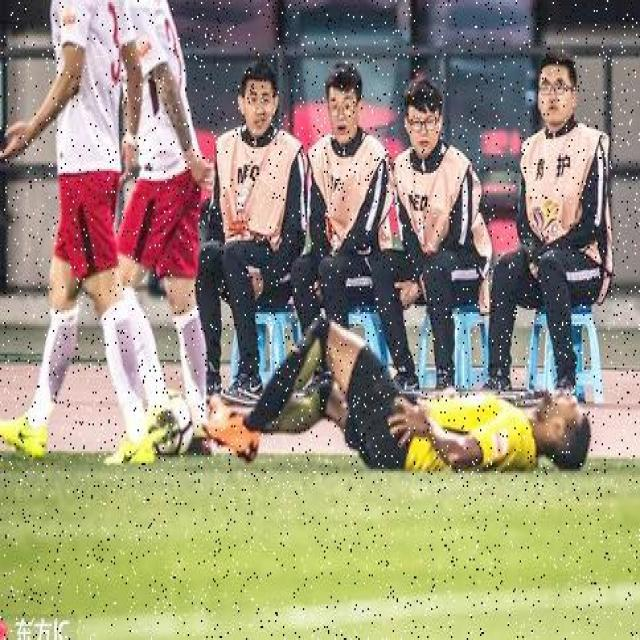fall: (224, 322, 602, 479)
